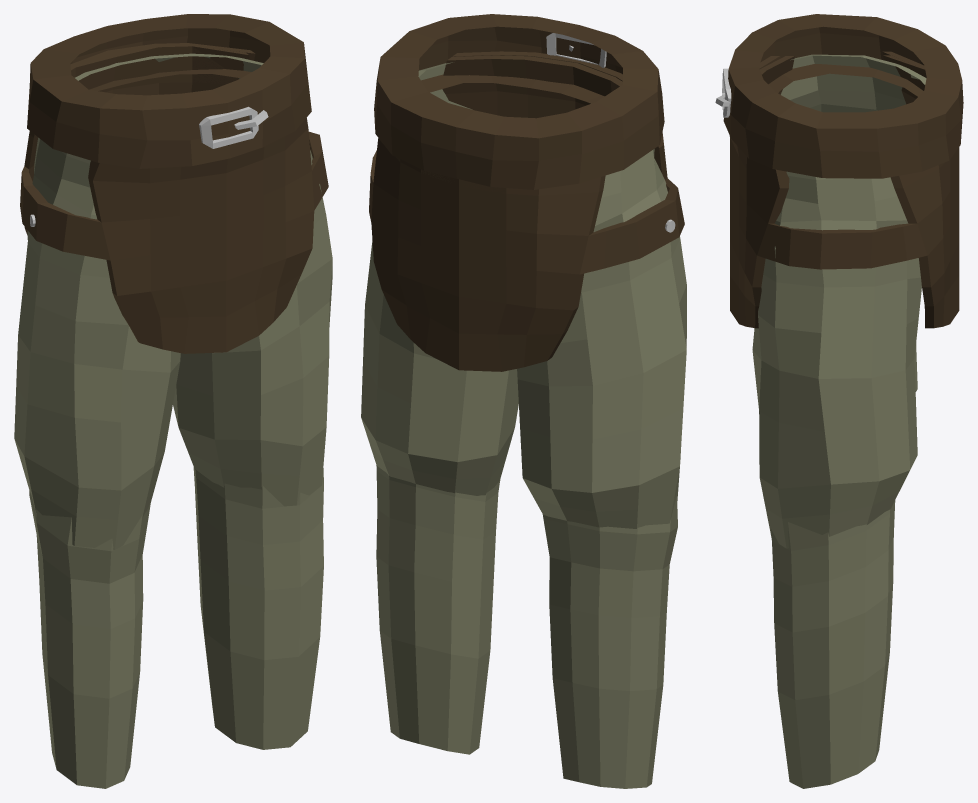
File: Icon 2.fbx
3 renders of one model, left to right at view 1: azimuth 30°, elevation 25°; view 2: azimuth 150°, elevation 25°; view 3: azimuth 270°, elevation 25°, orthographic. The views are drawn at different scales.
Visible parts, largest first — view 1: Leather 2 Pants; view 2: Leather 2 Pants; view 3: Leather 2 Pants.
Part boxes in pixels (x1,y1,x2,y2): Leather 2 Pants: (14,14,332,788); Leather 2 Pants: (361,14,686,788); Leather 2 Pants: (715,14,963,788).
Size of the model in its own units: 48.62 by 107 by 35.72.
